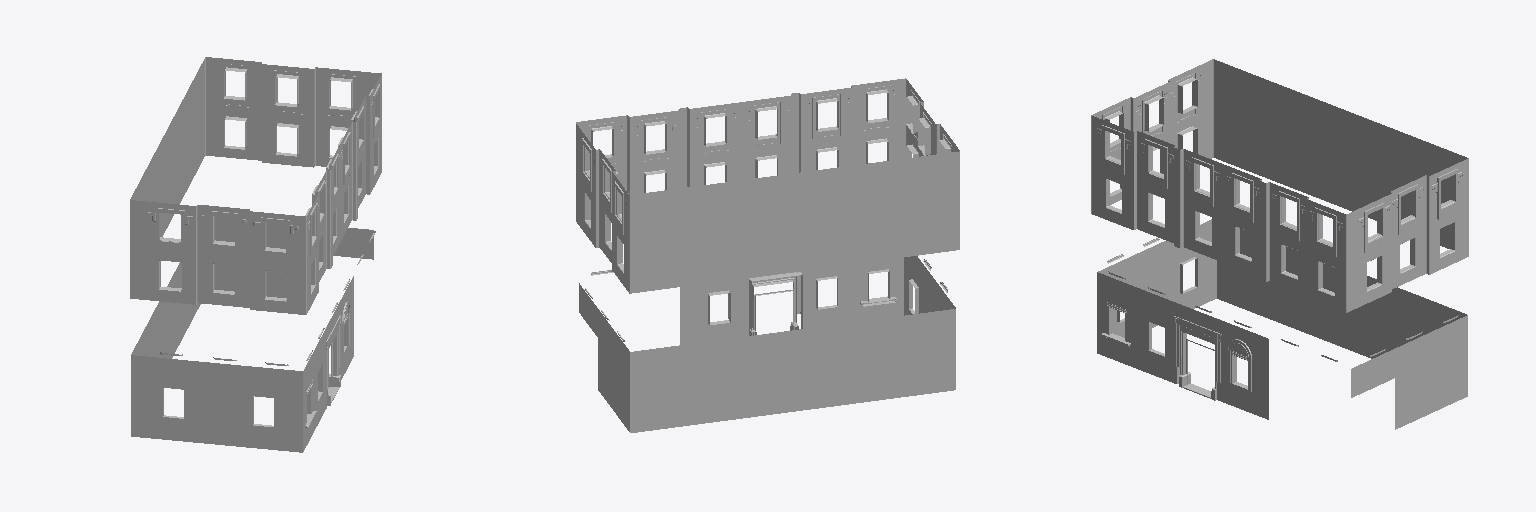
The picture shows the model from 3 angles: view 1: azimuth 30°, elevation 25°; view 2: azimuth 150°, elevation 25°; view 3: azimuth 270°, elevation 25°; orthographic projection.
Visible parts, largest first — view 1: Bistro_Research_Exterior_paris_building_09_5443; view 2: Bistro_Research_Exterior_paris_building_09_5443; view 3: Bistro_Research_Exterior_paris_building_09_5443.
Part boxes in pixels (x1,y1,x2,y2): Bistro_Research_Exterior_paris_building_09_5443: (130, 57, 381, 452); Bistro_Research_Exterior_paris_building_09_5443: (576, 78, 959, 432); Bistro_Research_Exterior_paris_building_09_5443: (1091, 59, 1468, 429).
Size of the model in its own units: 32.65 by 23.41 by 33.53.